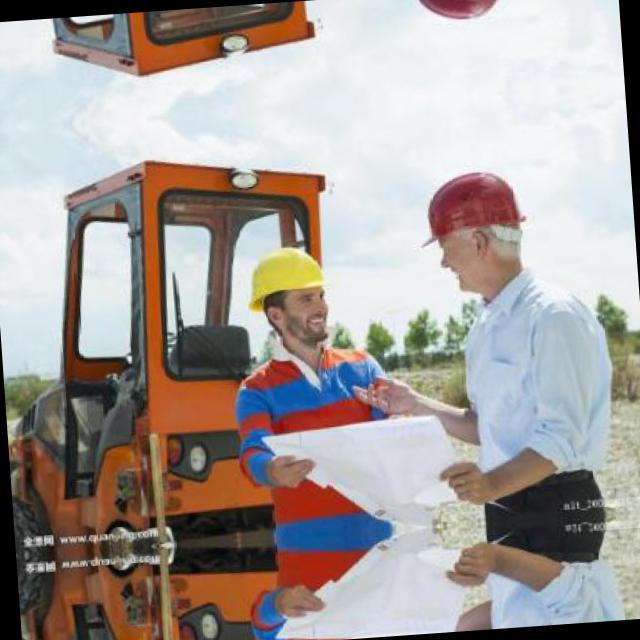helmet: (407, 147, 543, 300), (237, 228, 344, 354), (396, 0, 527, 45)
